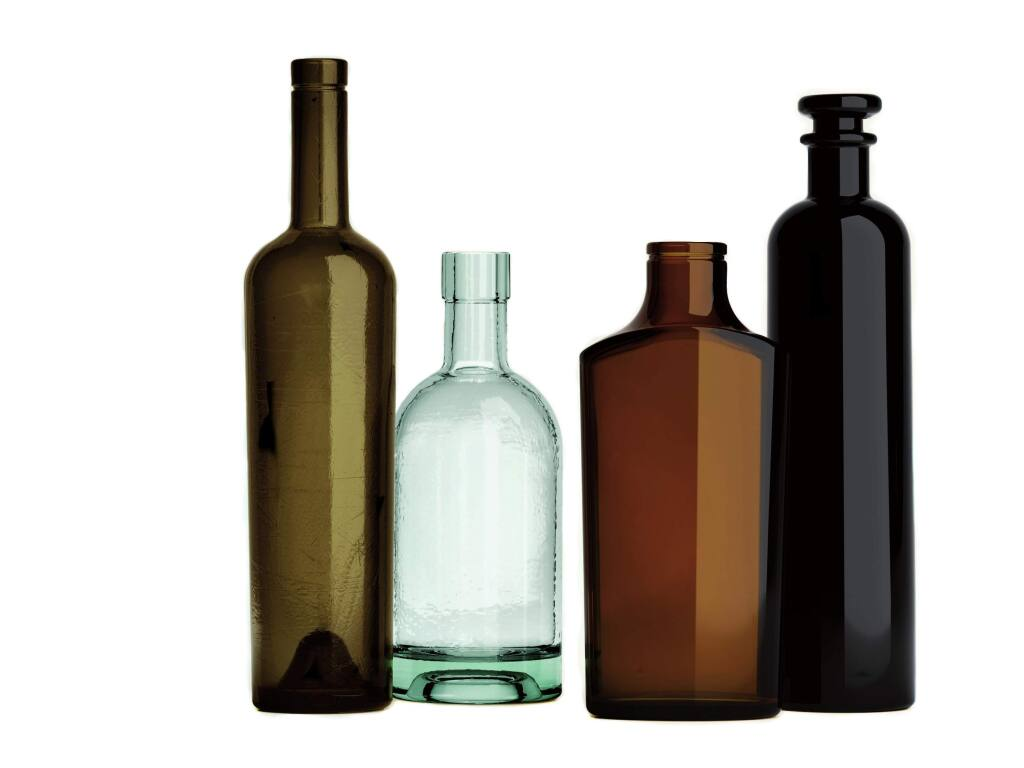glass_bottle: (232, 55, 394, 719), (577, 237, 781, 730), (764, 81, 921, 718), (391, 242, 564, 710)
